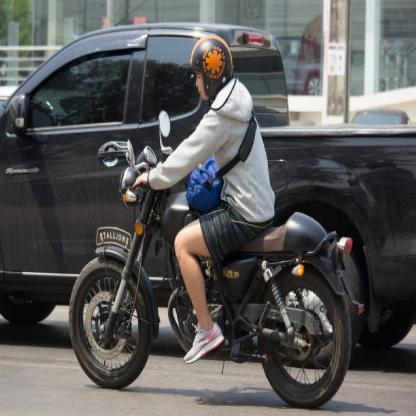Motorcycle: (69, 142, 359, 410)
